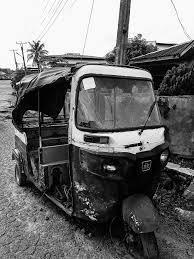keke: (3, 63, 173, 258)
